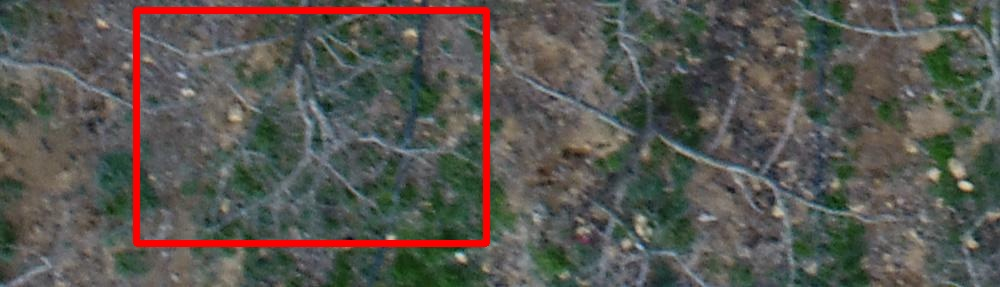apple: (136, 10, 486, 243)
